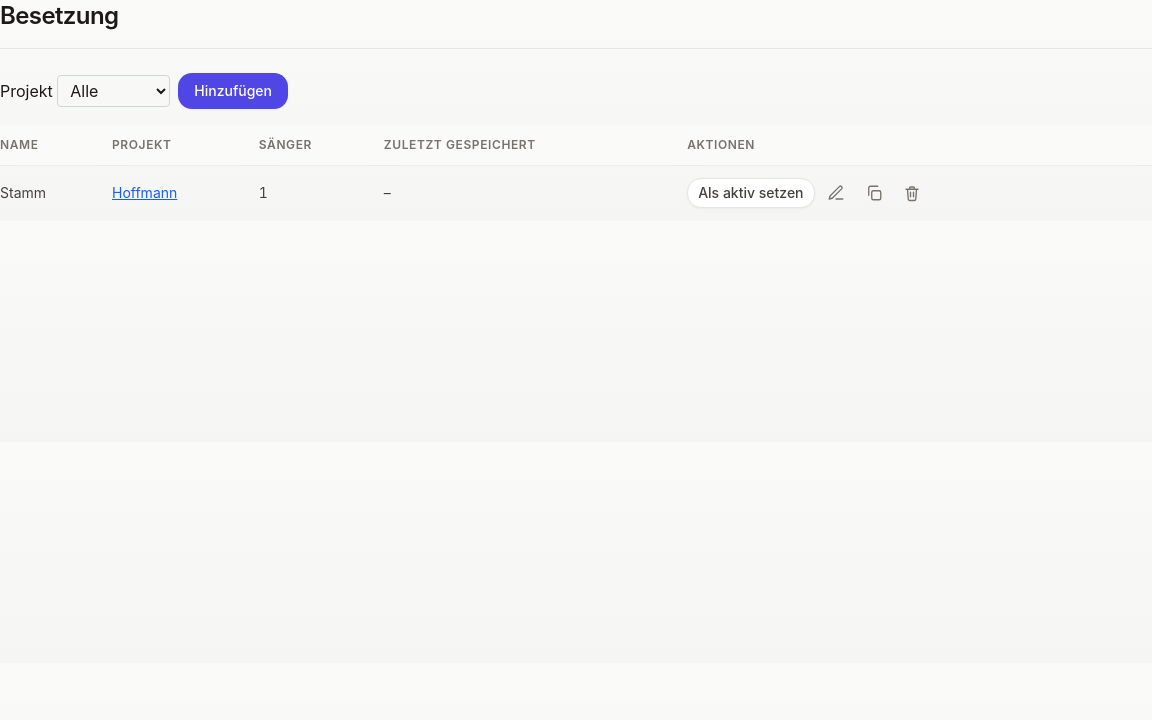
Test case: BesetzungPage › creates a lineup with checked singers
Expected: the text "Stamm" is shown, [0,166,112,220]
Click the button "Hinzufügen".
click(233, 91)  # box [178,73,288,109]
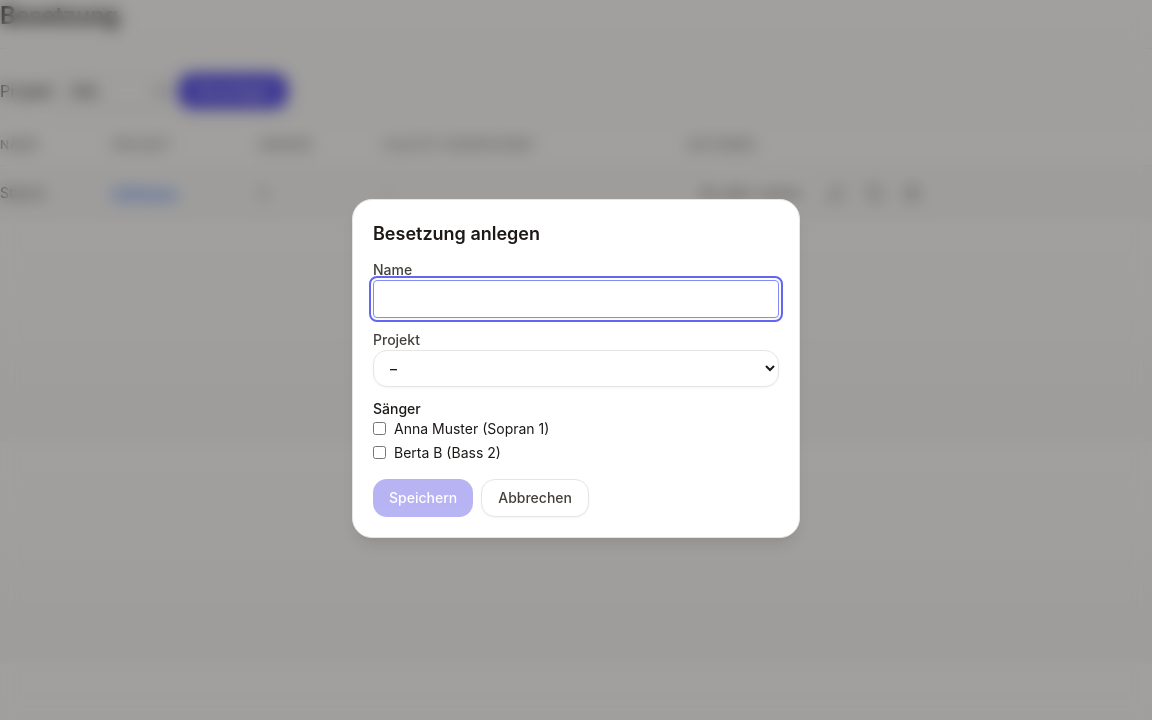
Type "Gäste" into the field labelled "Name".
click(576, 298); type("Gäste")  # box [373,280,779,318]
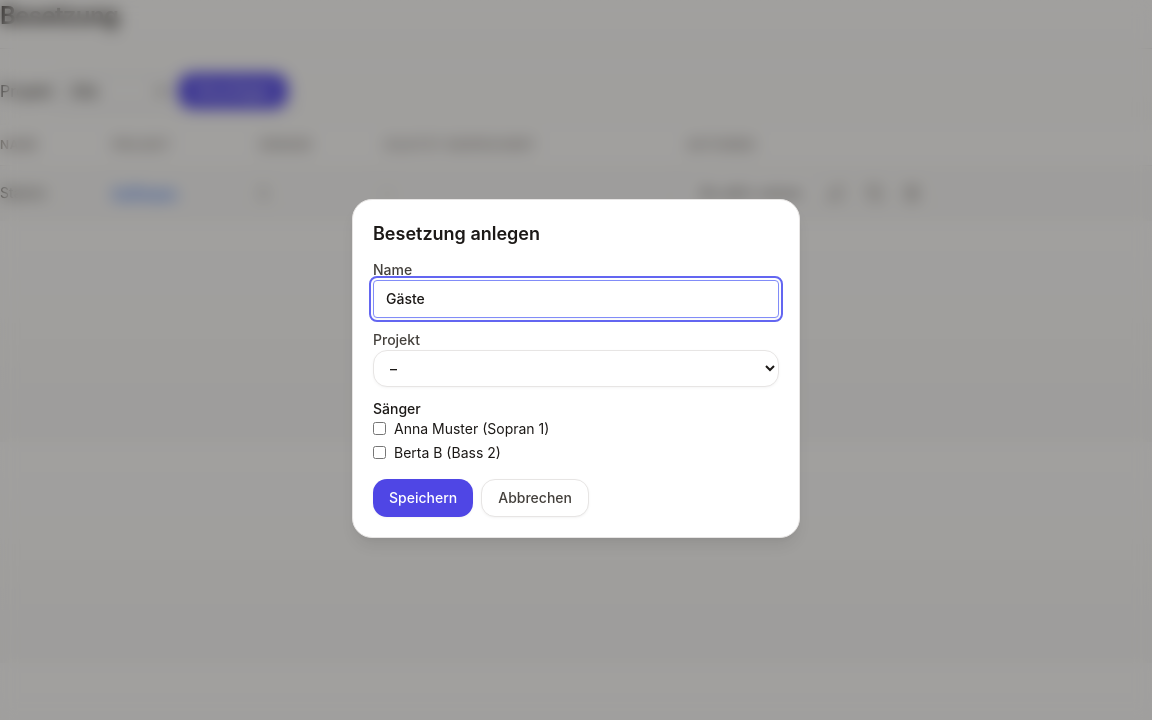
Click the checkbox labelled "Berta B (Bass 2)".
click(380, 452)  # box [373,446,386,459]
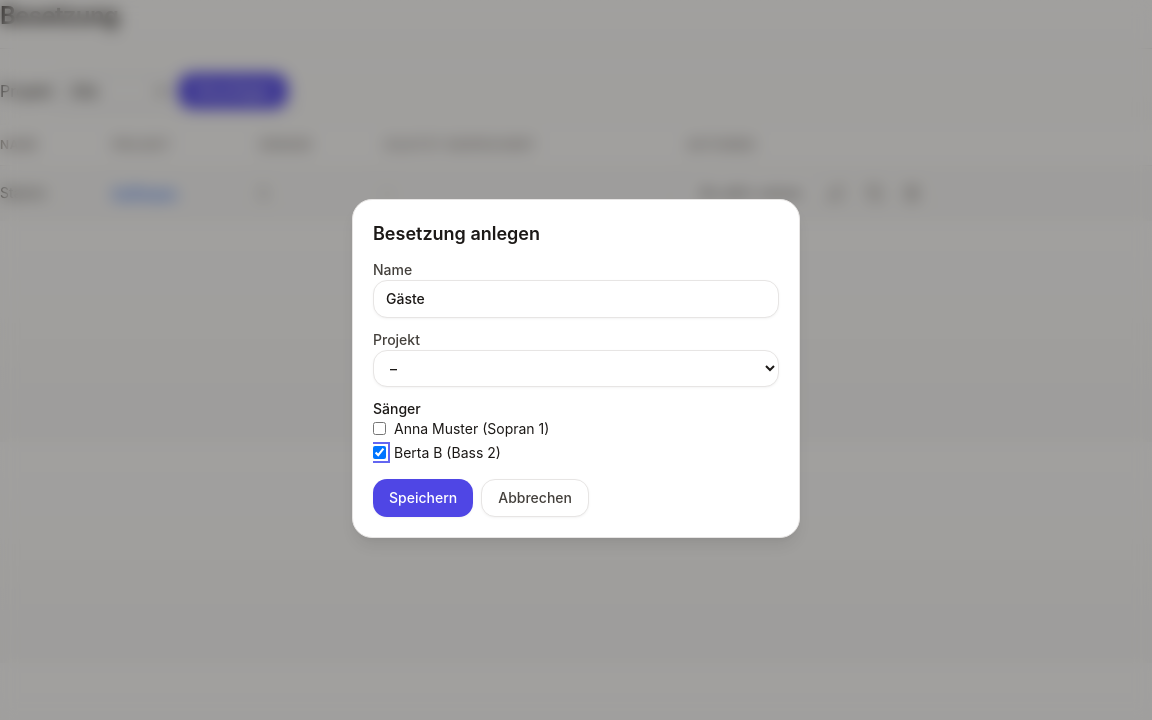
Click the button "Speichern".
click(423, 498)  # box [373,478,473,516]
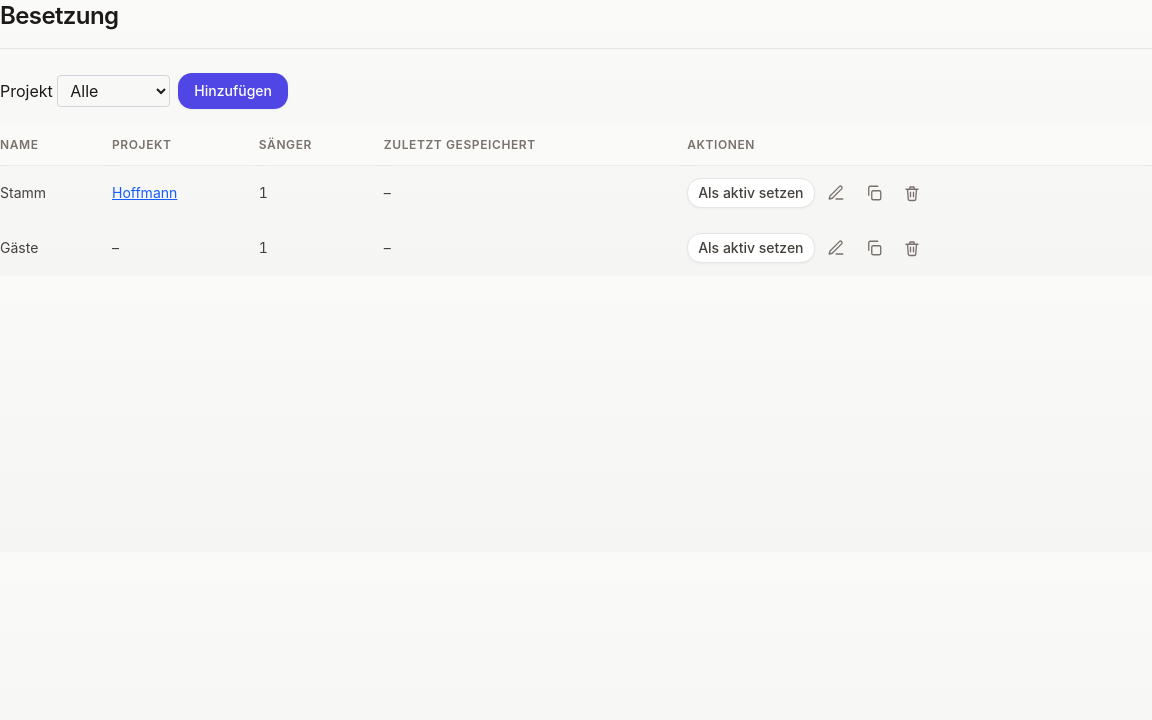
Now the text "Gäste" is shown, box [0,220,112,276]
